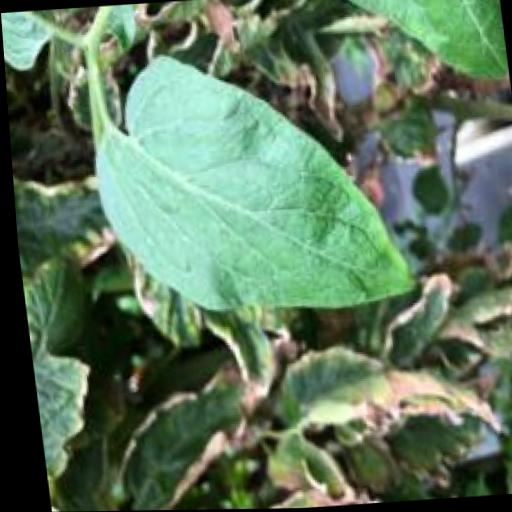Healthy: (75, 38, 420, 326)
